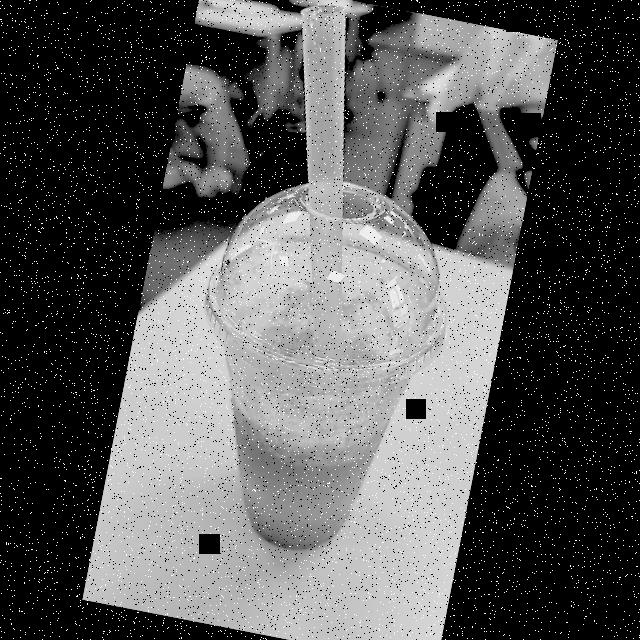plastic_cup: (152, 150, 468, 582)
plastic_cup_lid: (189, 158, 466, 406)
straw: (234, 0, 398, 372)
